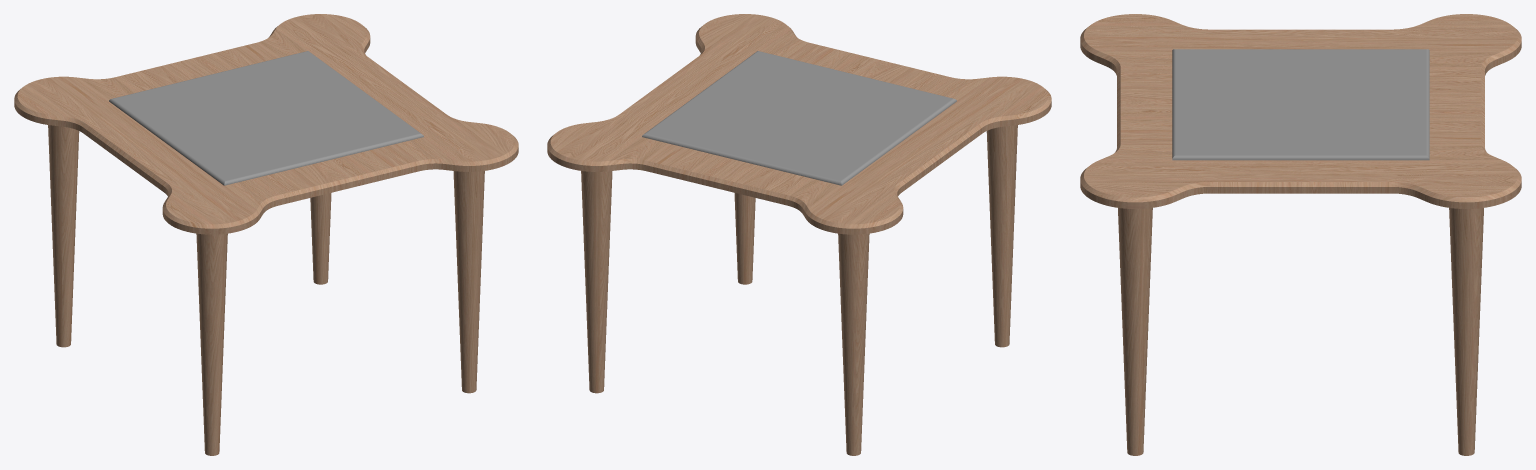
File: MASA3.FBX
The picture shows the model from 3 angles, left to right: view 1: azimuth 30°, elevation 25°; view 2: azimuth 150°, elevation 25°; view 3: azimuth 270°, elevation 25°; orthographic projection. The views are drawn at different scales.
Visible parts, largest first — view 1: Object001, Layer:MASA_AHSAP; view 2: Object001, Layer:MASA_AHSAP; view 3: Object001, Layer:MASA_AHSAP.
Part boxes in pixels (<box>): Object001: <box>14,14,518,455</box>; Layer:MASA_AHSAP: <box>109,51,423,185</box>; Object001: <box>547,14,1051,455</box>; Layer:MASA_AHSAP: <box>642,51,956,185</box>; Object001: <box>1080,14,1521,455</box>; Layer:MASA_AHSAP: <box>1172,49,1429,160</box>.
Size of the model in its own units: 120 by 84 by 120.
2 materials, 1 textured.
